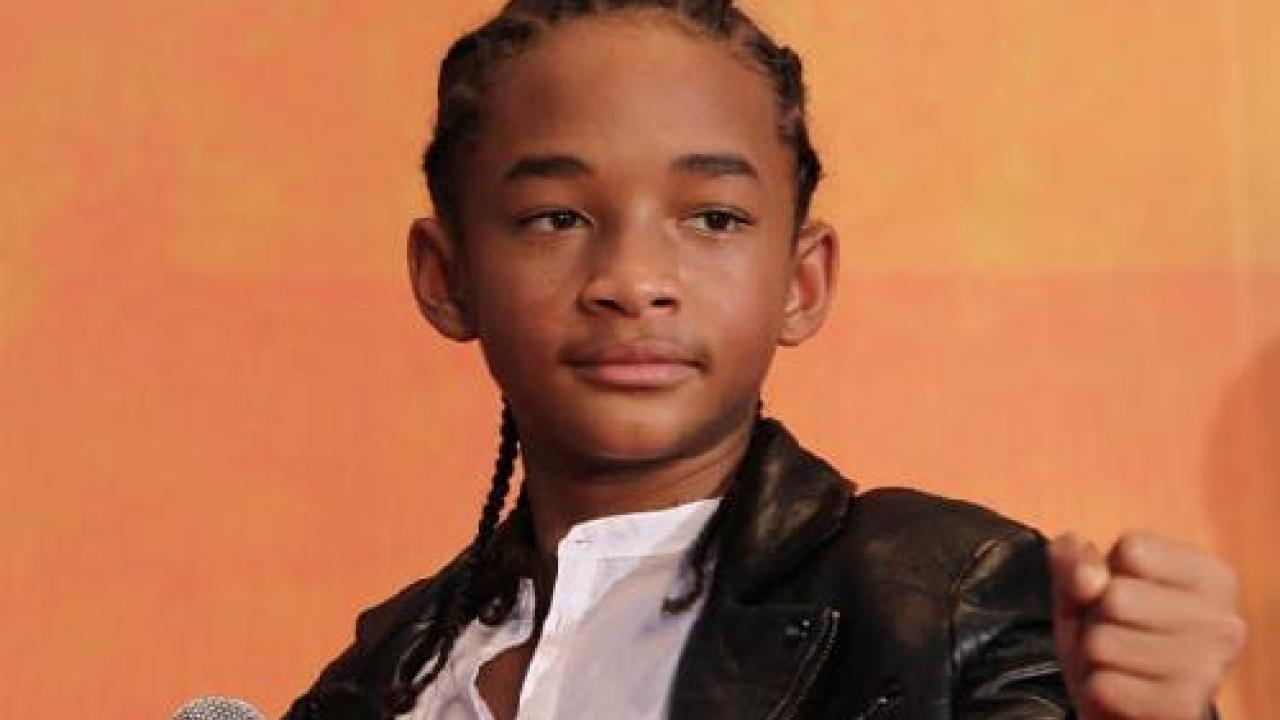BOY: (403, 4, 840, 452)
